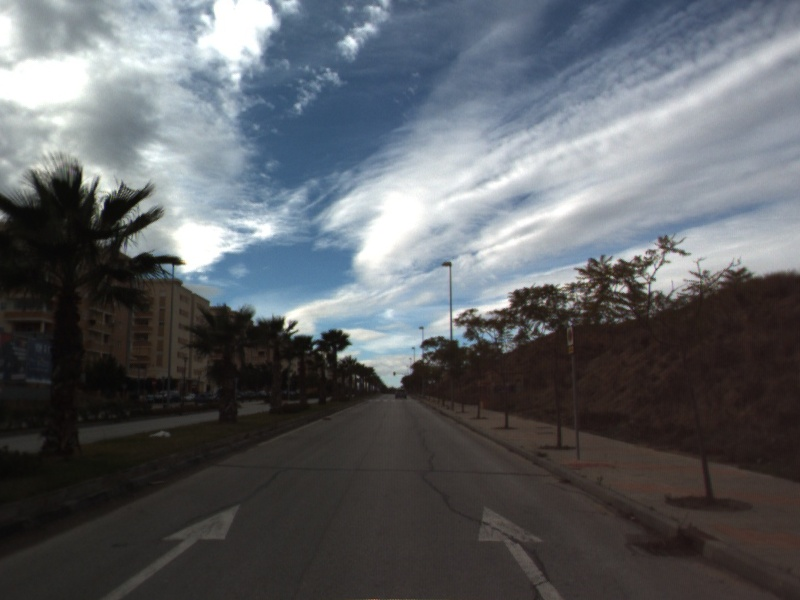STRAIGHT: (95, 500, 244, 600), (476, 504, 567, 600)
